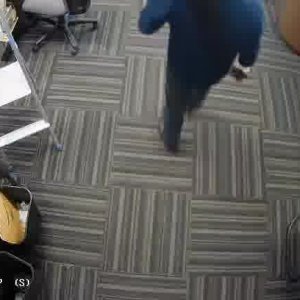person: (152, 0, 261, 148)
